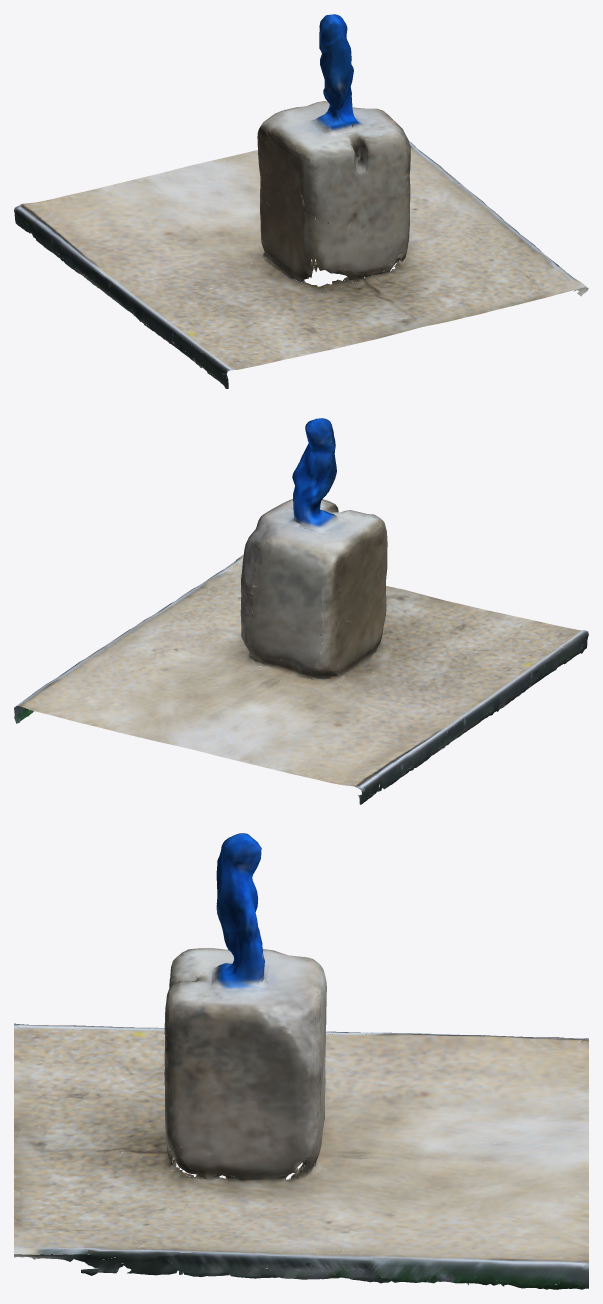
Rendered from model3_2_decimate.glb.
3 views of the same model, one above another, from view 1: azimuth 30°, elevation 25°; view 2: azimuth 150°, elevation 25°; view 3: azimuth 270°, elevation 25° (orthographic). The views are drawn at different scales.
Visible parts, largest first — view 1: Model; view 2: Model; view 3: Model.
Part boxes in pixels (x1=…): Model: x1=14, y1=14, x2=588, y2=388; Model: x1=14, y1=418, x2=588, y2=804; Model: x1=14, y1=833, x2=588, y2=1289.
Bounding box in the file's own units: 0.4755 × 0.3207 × 0.4891.
Materials: 1 (1 with a texture image).
